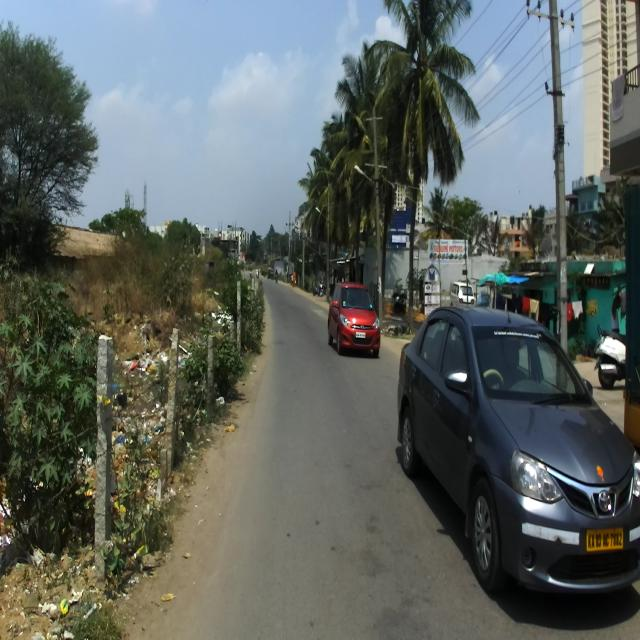barrier ahead at: (87, 331, 116, 590), (165, 326, 180, 484), (200, 328, 218, 416), (230, 276, 246, 362)
car ahead at: (396, 301, 640, 612), (326, 277, 382, 357)
